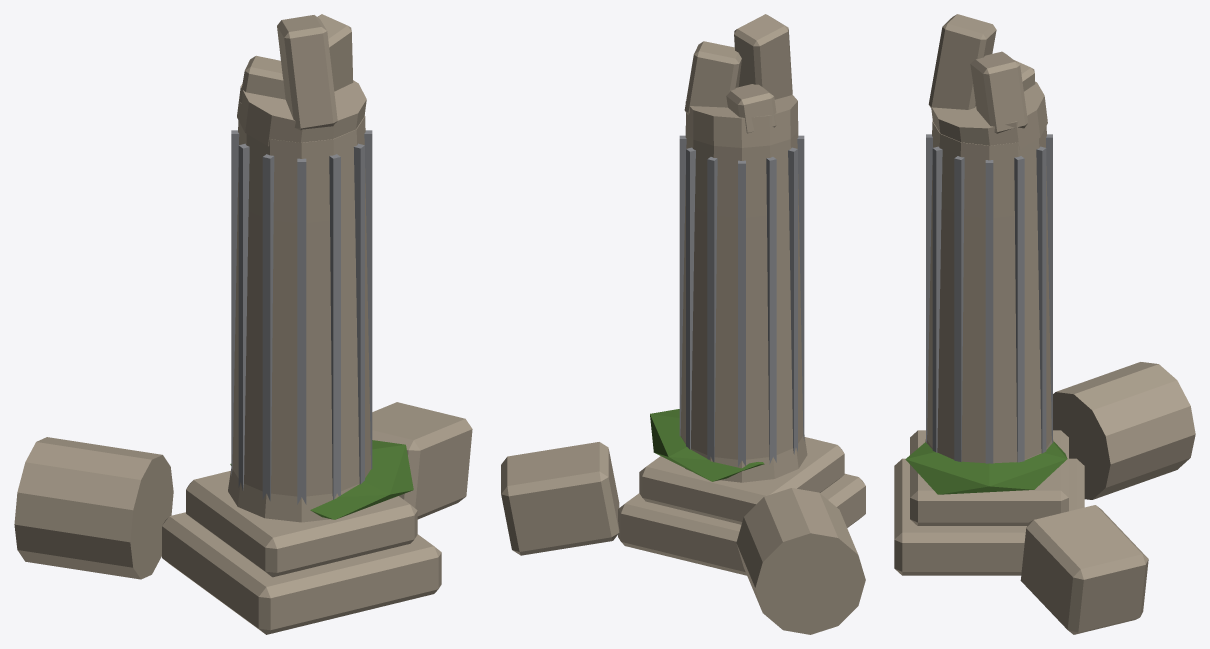
Rendered from pillar_ruin.glb.
The picture shows the model from 3 angles, left to right: view 1: azimuth 30°, elevation 25°; view 2: azimuth 150°, elevation 25°; view 3: azimuth 270°, elevation 25°; orthographic projection. The views are drawn at different scales.
Parts seen in each view (by area): view 1: pillar_ruin; view 2: pillar_ruin; view 3: pillar_ruin.
Boxes of the visible parts, x1,y1,x2,y2 form: pillar_ruin: (14, 14, 472, 634); pillar_ruin: (501, 14, 865, 634); pillar_ruin: (894, 14, 1195, 634).
Size of the model in its own units: 2.84 by 3.62 by 1.9.
